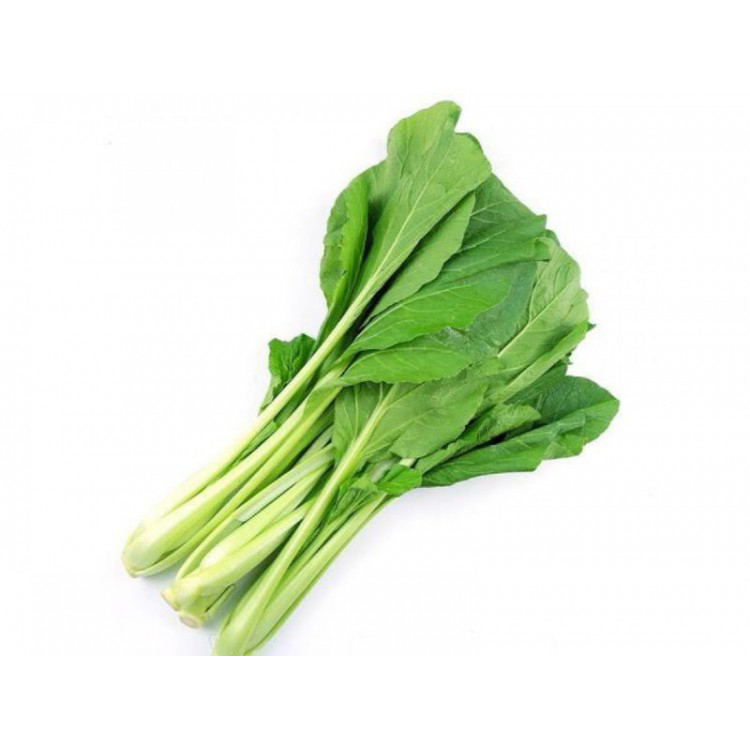Sawi: (147, 177, 617, 629)
